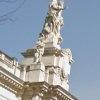Statue: (22, 2, 73, 89)
